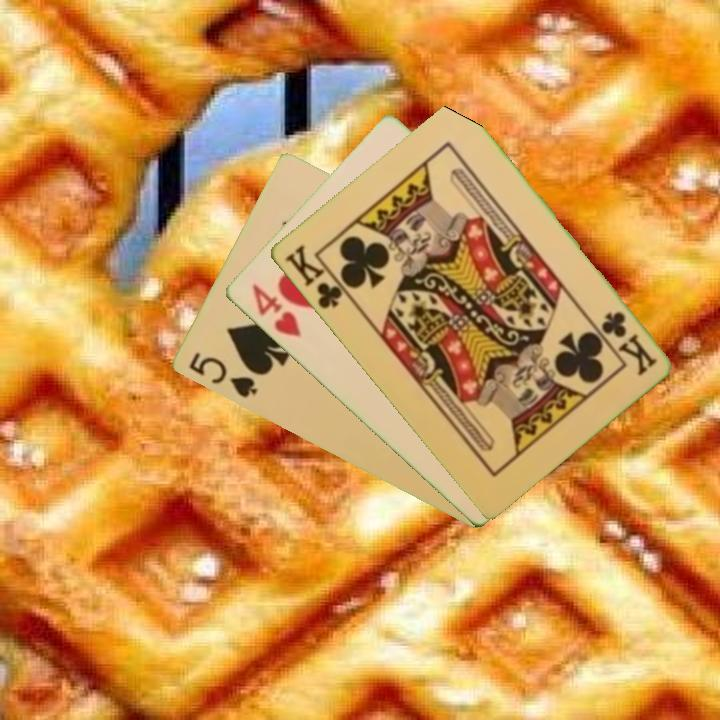4h: (248, 280, 304, 341)
5s: (184, 348, 260, 401)
Kc: (281, 241, 353, 312), (597, 307, 660, 377)
